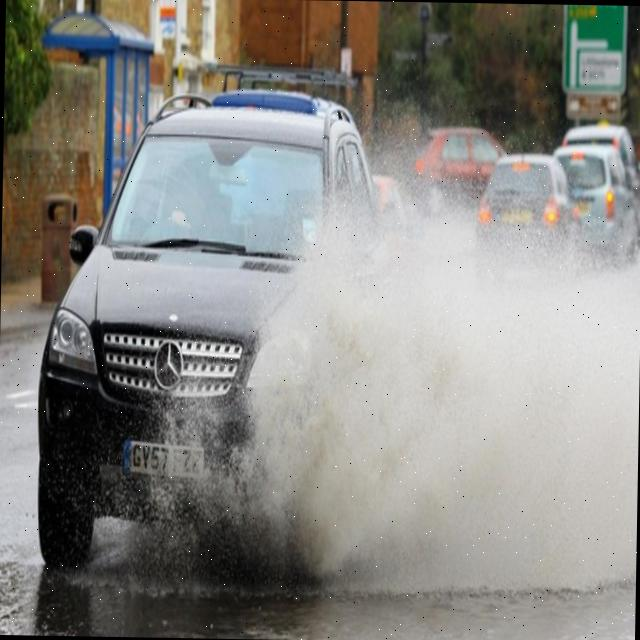car: (34, 80, 416, 580), (554, 146, 640, 254), (474, 152, 576, 238), (408, 126, 508, 207)
